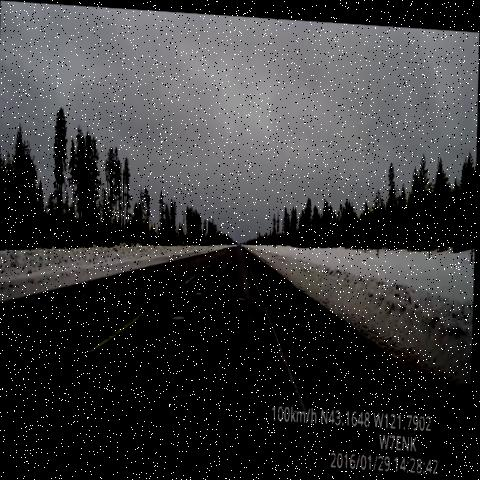pothole: (167, 302, 198, 330), (233, 284, 253, 312), (187, 279, 211, 299)
